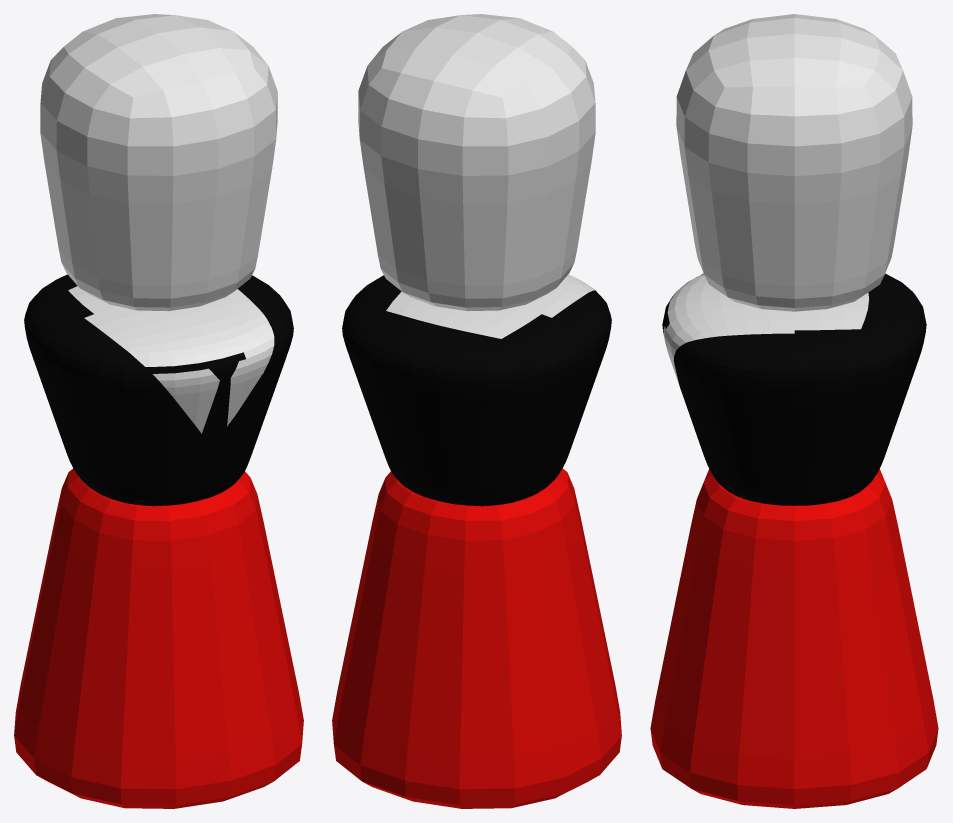
Rendered from Like.fbx.
The picture shows the model from 3 angles, left to right: view 1: azimuth 30°, elevation 25°; view 2: azimuth 150°, elevation 25°; view 3: azimuth 270°, elevation 25°; orthographic projection.
Visible parts, largest first — view 1: Cube.002; view 2: Cube.002; view 3: Cube.002.
Boxes of the visible parts, box(x1,y1,x2,y2) form: Cube.002: box(14, 14, 303, 808); Cube.002: box(332, 14, 621, 808); Cube.002: box(650, 14, 938, 808).
Bounding box in the file's own units: 72.2 × 201 × 72.2.
